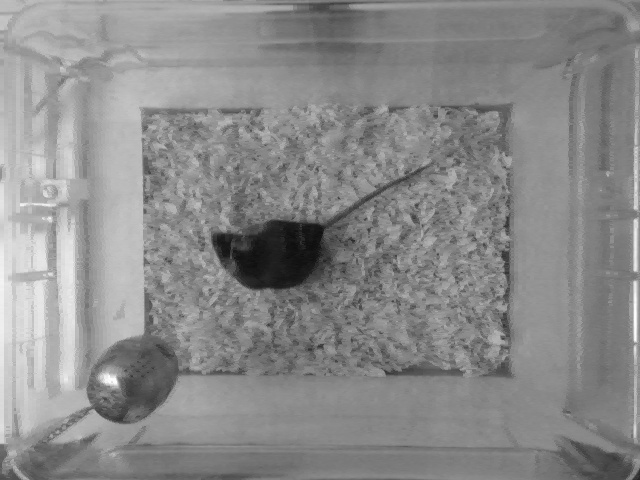mice: (209, 156, 438, 292)
